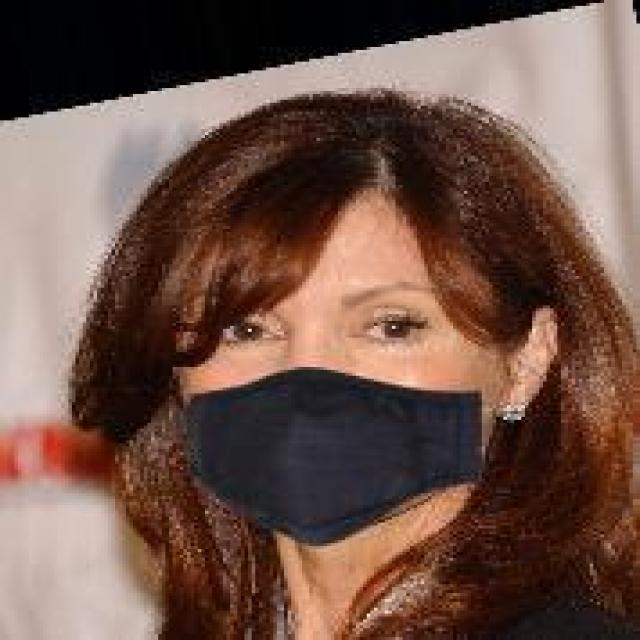mask: (126, 68, 579, 549)
